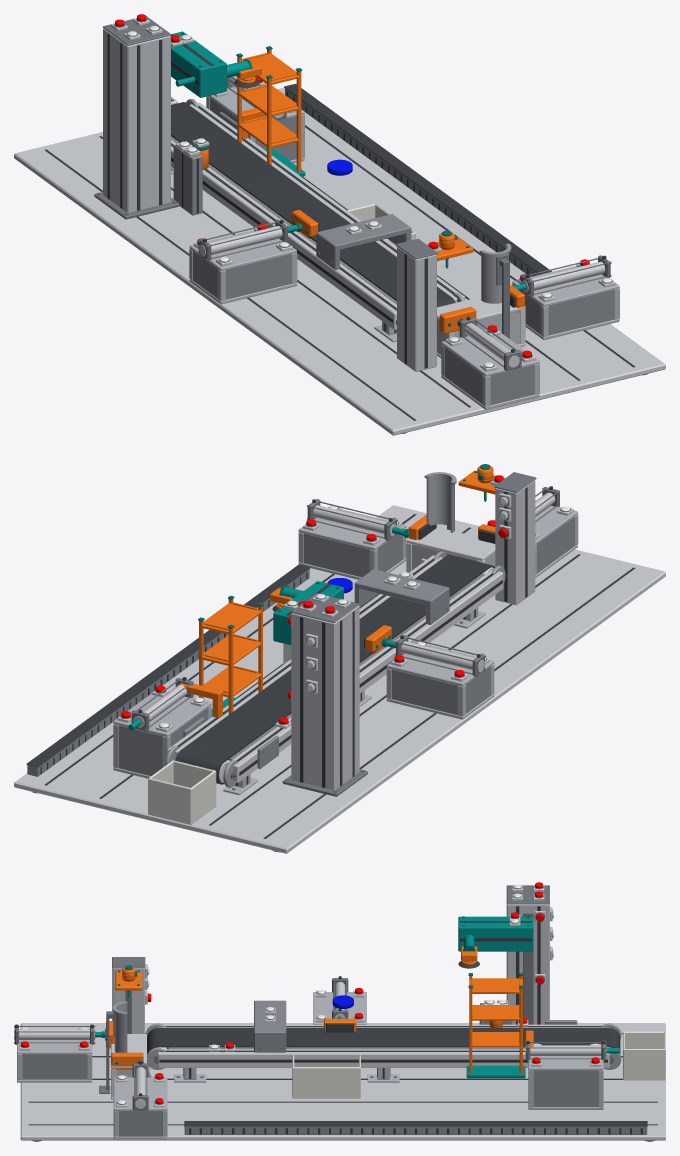
File: mps.glb
3 renders of one model, top to bottom at view 1: azimuth 30°, elevation 25°; view 2: azimuth 150°, elevation 25°; view 3: azimuth 270°, elevation 25°, orthographic. The views are drawn at different scales.
Parts seen in each view (by area): view 1: Base:1, LiftFrame, ConveyorBelt, ConveyorBody, CableDuct, CylinderBaseNormal.002, DrillStage, CylinderBaseNormal.001, CylinderBaseNormal, CylinderBaseShort, WorkTableBlock, StopperBracket (+11 smaller); view 2: Base:1, LiftFrame, ConveyorBelt, ConveyorBody, CableDuct, CylinderBaseNormal.002, CylinderBaseNormal, DrillStage, CylinderBaseNormal.003, WorkTableBlock, CylinderBaseNormal.001, SorterTop (+13 smaller); view 3: Base:1, ConveyorBody, ConveyorBelt, CableDuct, LiftFrame, CylinderBaseNormal.003, CylinderBaseNormal.001, CylinderBaseNormal, CylinderBaseShort, WallXn, DrillStage, WallXn.001 (+17 smaller).
Part boxes in pixels (x1,y1,x2,y2): Base:1: (14, 87, 665, 435); LiftFrame: (94, 16, 179, 219); ConveyorBelt: (171, 102, 455, 307); ConveyorBody: (171, 102, 464, 330); CableDuct: (284, 84, 551, 276); CylinderBaseNormal.002: (189, 230, 297, 304); DrillStage: (396, 238, 437, 371); CylinderBaseNormal.001: (441, 333, 539, 409); CylinderBaseNormal: (512, 266, 619, 339); CylinderBaseShort: (170, 31, 226, 97); WorkTableBlock: (437, 297, 525, 358); StopperBracket: (173, 144, 202, 215); Base:1: (14, 505, 665, 853); LiftFrame: (282, 593, 367, 796); ConveyorBelt: (175, 555, 494, 784); ConveyorBody: (167, 555, 503, 782); CableDuct: (26, 564, 310, 776); CylinderBaseNormal.002: (386, 645, 494, 719); CylinderBaseNormal: (298, 509, 406, 579); DrillStage: (494, 472, 536, 605); CylinderBaseNormal.003: (113, 693, 211, 778); WorkTableBlock: (406, 527, 495, 572); CylinderBaseNormal.001: (494, 505, 578, 577); SorterTop: (355, 569, 449, 605); Base:1: (20, 1023, 665, 1141); ConveyorBody: (158, 1024, 609, 1067); ConveyorBelt: (147, 1028, 620, 1053); CableDuct: (184, 1121, 647, 1134); LiftFrame: (506, 885, 549, 1024); CylinderBaseNormal.003: (528, 1056, 603, 1109); CylinderBaseNormal.001: (17, 1040, 92, 1082); CylinderBaseNormal: (113, 1077, 167, 1139); CylinderBaseShort: (458, 916, 533, 951); WallXn: (292, 1067, 360, 1097); DrillStage: (112, 957, 145, 1033); WallXn.001: (623, 1049, 665, 1079).
Bounding box in the file's own units: 0.526 × 0.33 × 1.21.
